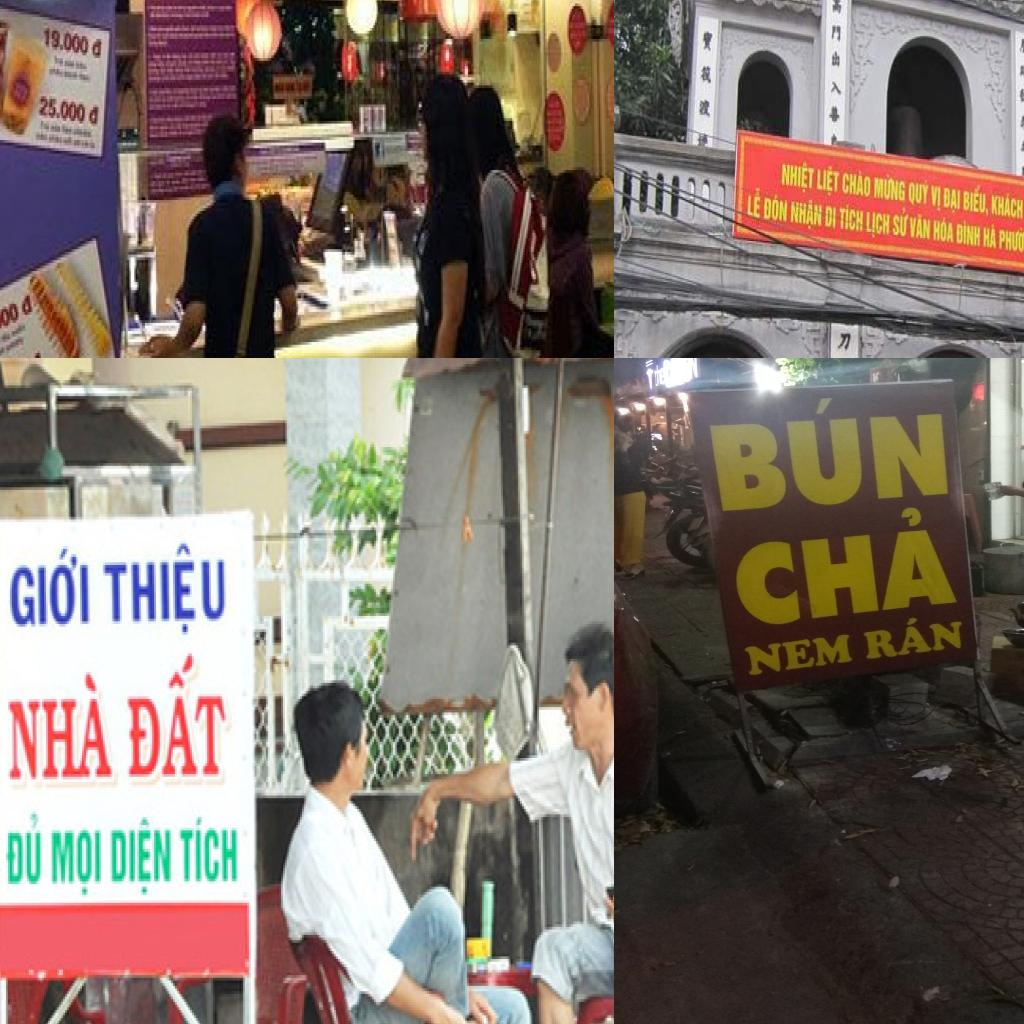text: (698, 387, 954, 516), (722, 504, 966, 632), (126, 654, 232, 780), (8, 672, 118, 782), (103, 544, 228, 638), (10, 546, 91, 632), (738, 630, 857, 680), (858, 612, 968, 664), (110, 817, 173, 897), (179, 817, 239, 887), (52, 828, 104, 900), (6, 814, 44, 890), (36, 91, 101, 129), (41, 25, 104, 61), (0, 292, 34, 347), (779, 157, 815, 197), (789, 198, 823, 234), (842, 166, 874, 202), (874, 173, 908, 206), (989, 189, 1024, 221), (838, 200, 866, 235), (962, 184, 990, 218), (762, 191, 789, 226), (998, 224, 1024, 256), (816, 165, 840, 199), (866, 210, 892, 240), (956, 217, 982, 247), (932, 214, 954, 246), (746, 185, 764, 223), (910, 212, 932, 241), (892, 206, 910, 241), (910, 176, 930, 206), (944, 185, 962, 215), (982, 221, 998, 252), (824, 201, 837, 232), (930, 182, 942, 215)
